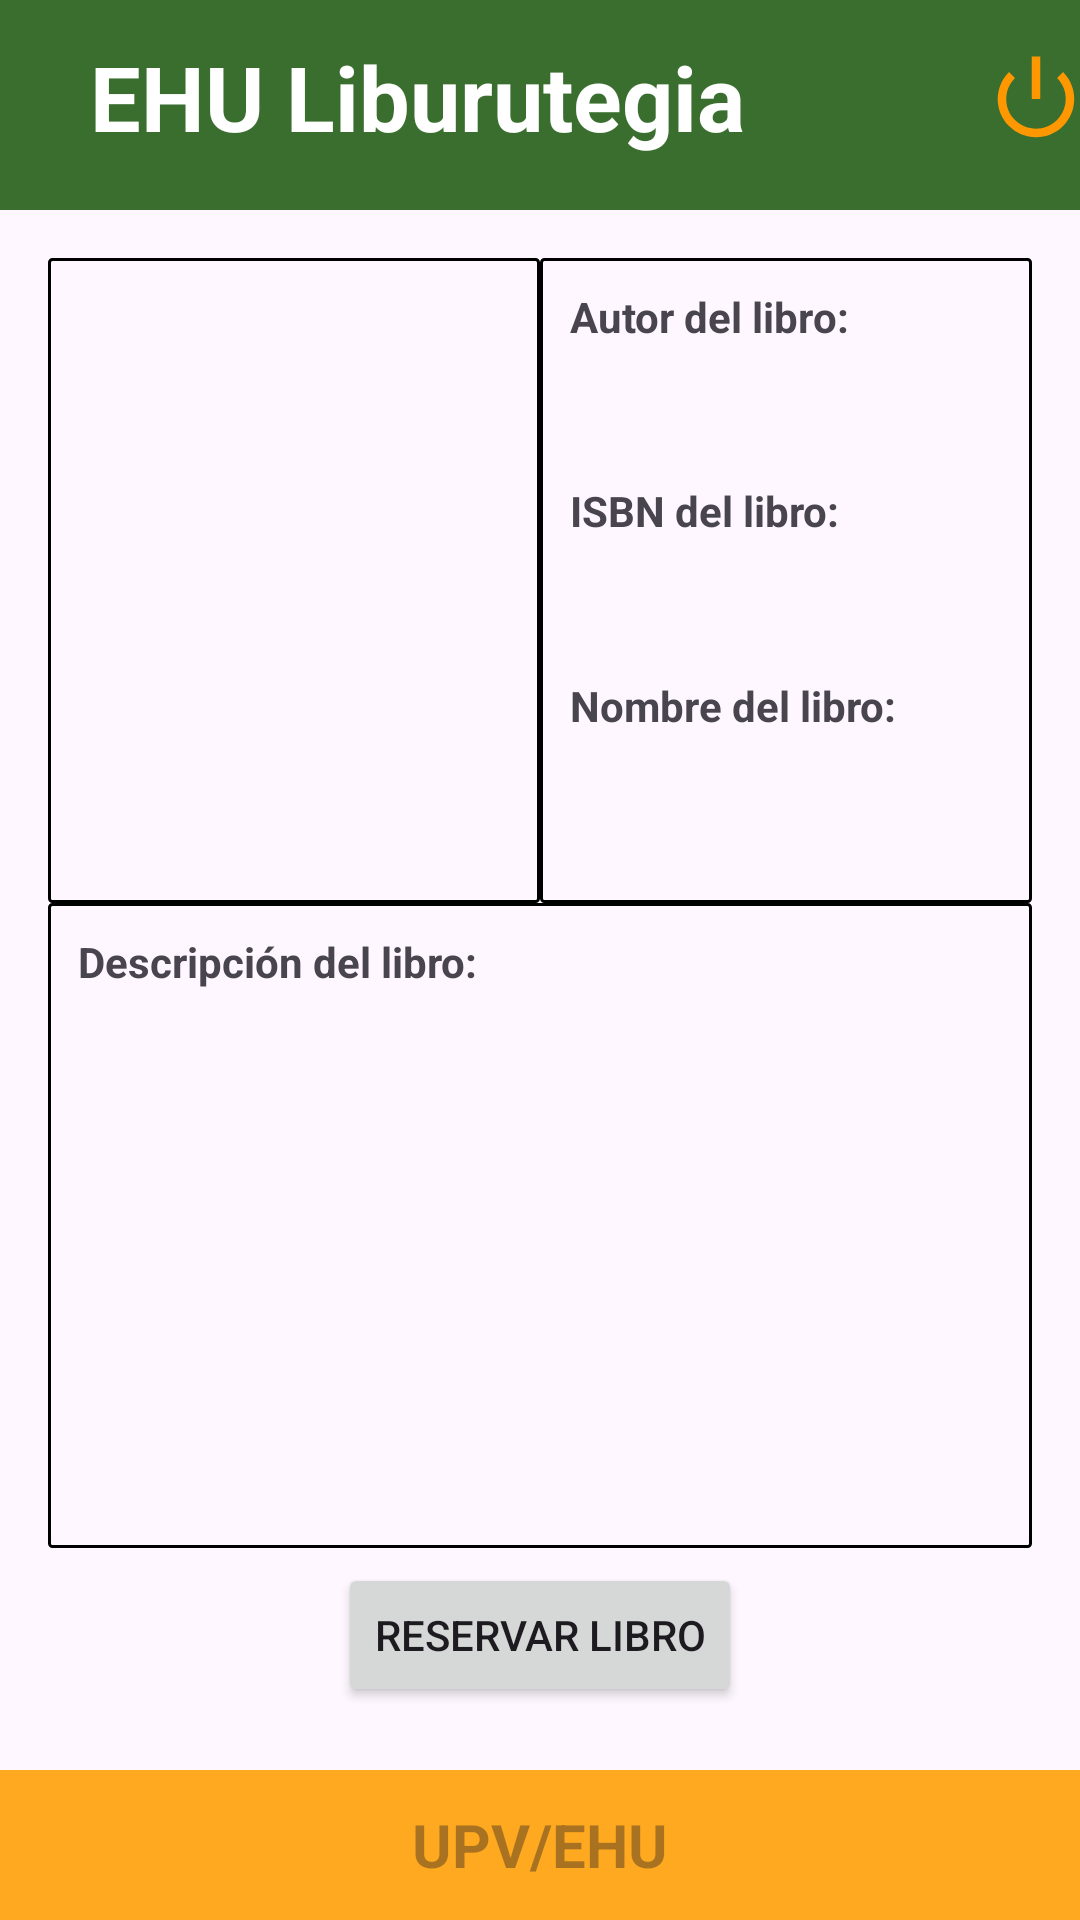

Screen size 1080×1920. Icon name, then its center in pixels as (x,y):
lock power off: (1036,97)
